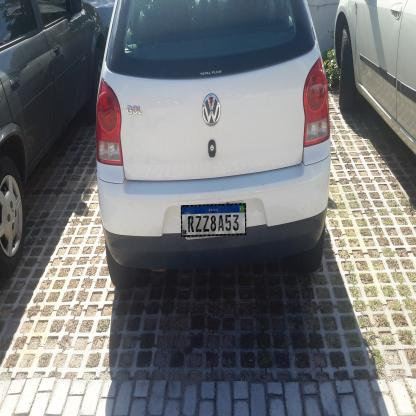PlacaM: (181, 203, 246, 237)
